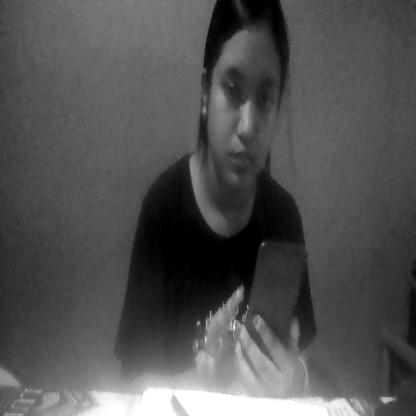Normal: (197, 6, 309, 229)
